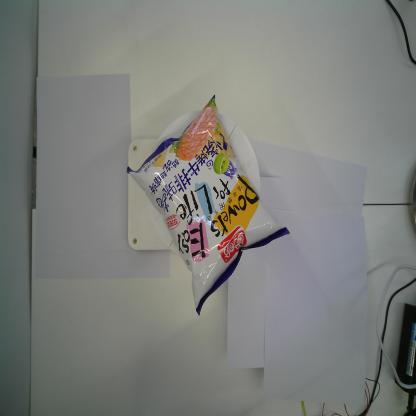Puffed Food: (127, 92, 292, 319)
